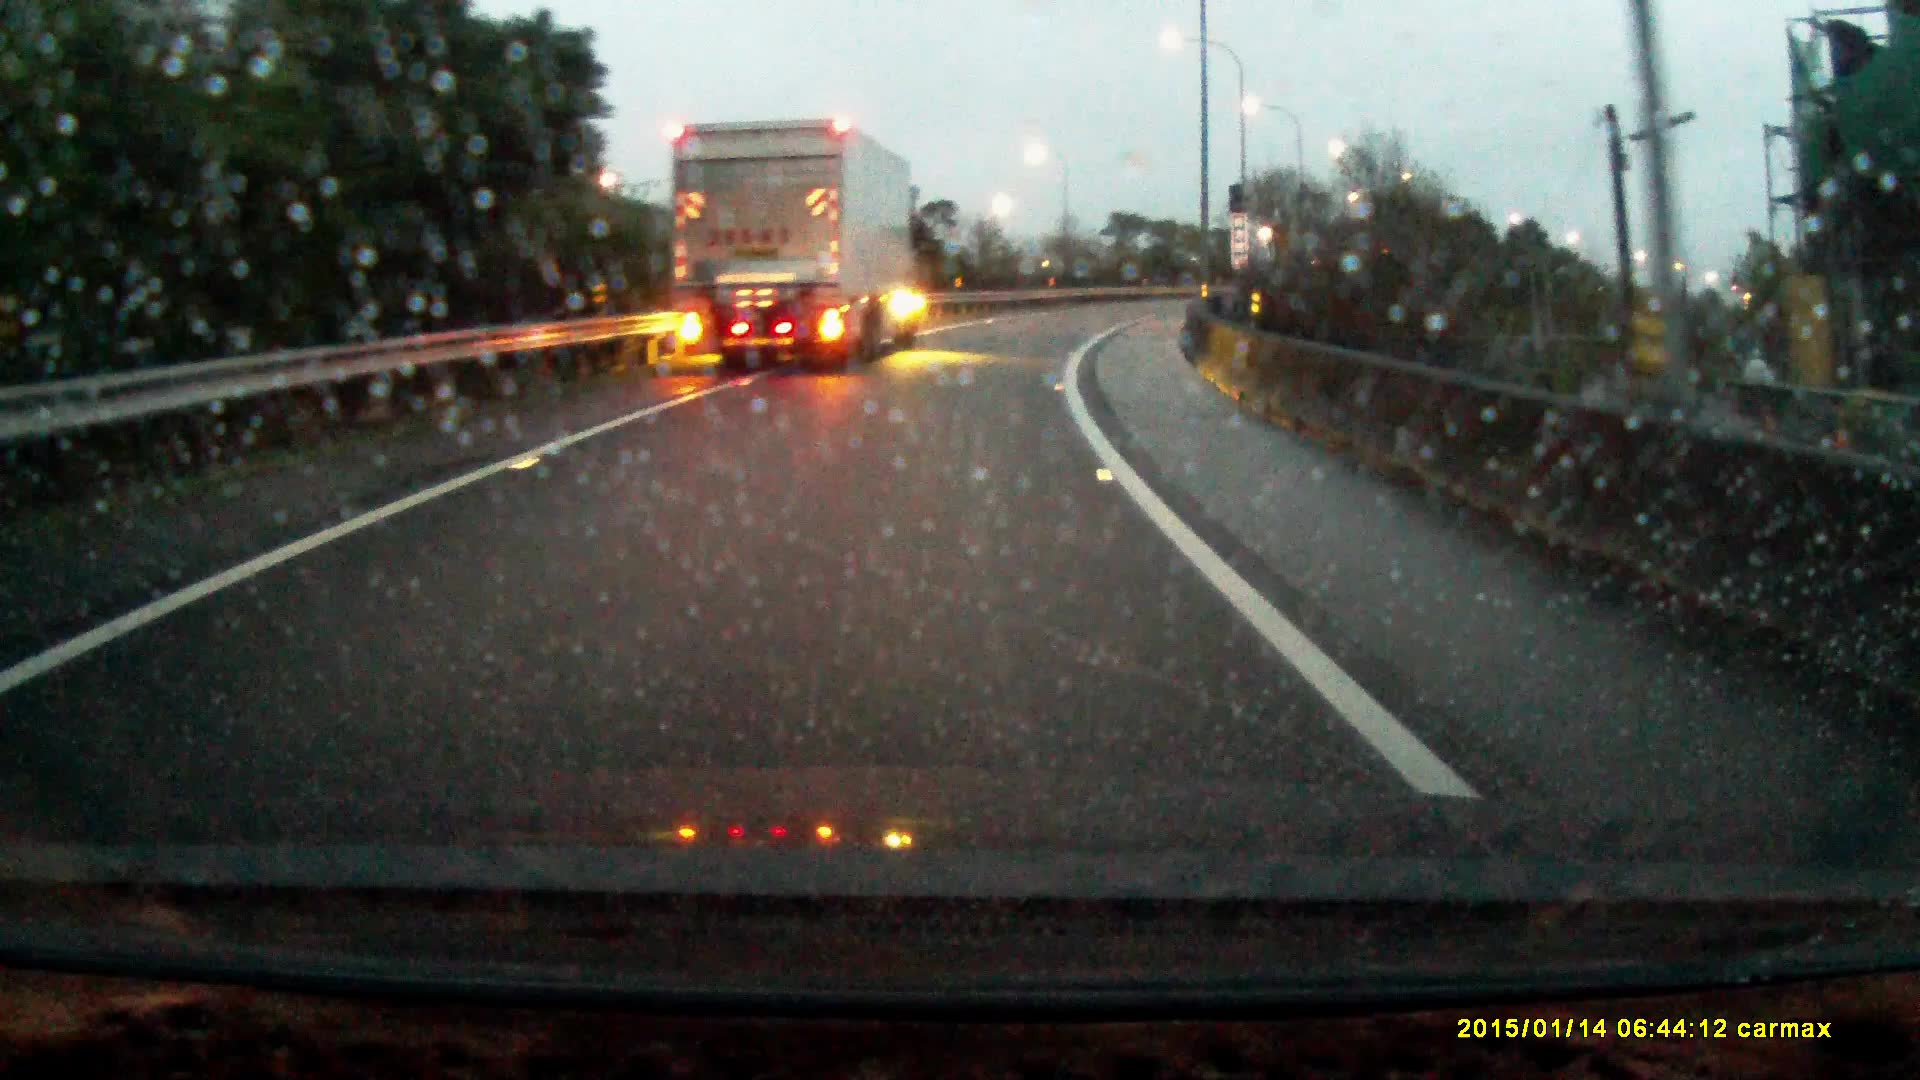vehicle: (666, 116, 926, 375)
